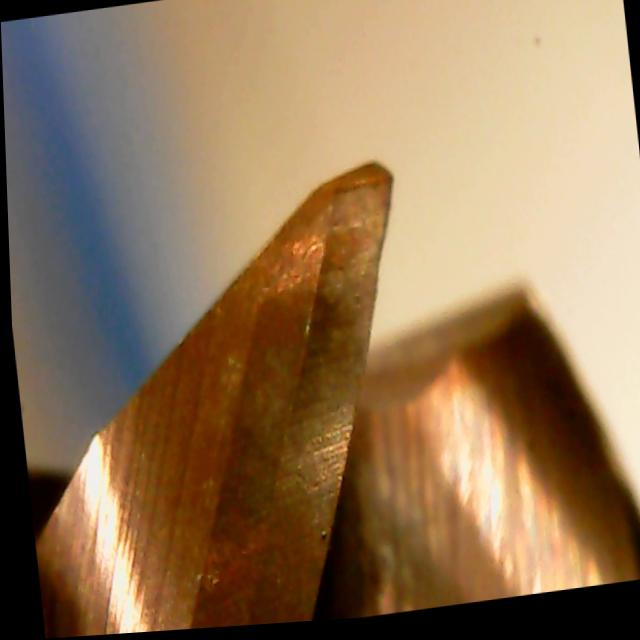Tool-wear-class-1: (231, 153, 432, 343)
